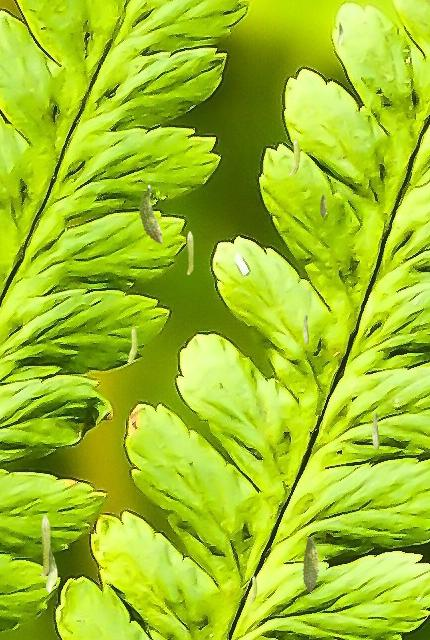ampalaya: (138, 184, 163, 244), (301, 537, 319, 592), (40, 514, 50, 578), (45, 546, 57, 593), (288, 136, 300, 176), (127, 326, 138, 362), (371, 412, 379, 451), (186, 231, 193, 275), (248, 574, 257, 603), (302, 314, 309, 345), (319, 194, 327, 217), (337, 21, 344, 45)
